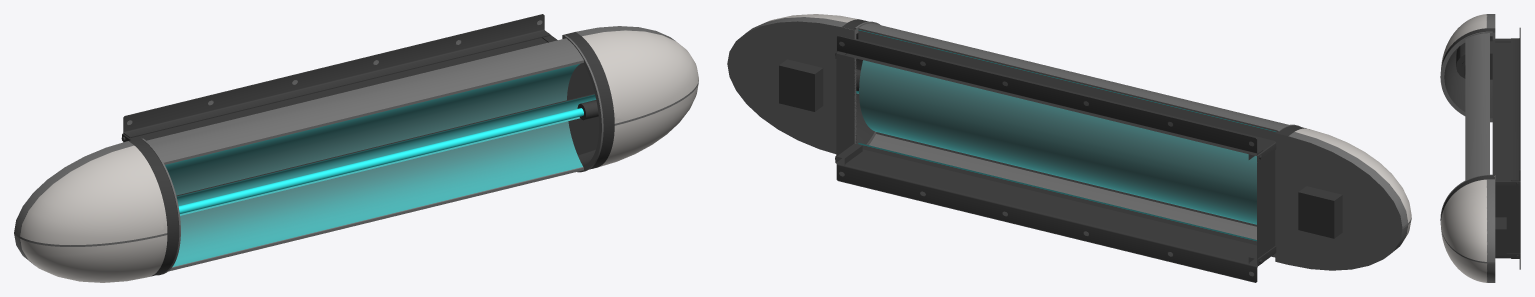
Rendered from Light_bridge_emitter.obj.
3 renders of one model, left to right at view 1: azimuth 30°, elevation 25°; view 2: azimuth 150°, elevation 25°; view 3: azimuth 270°, elevation 25°, orthographic. The views are drawn at different scales.
Visible parts, largest first — view 1: g0; view 2: g0; view 3: g0.
Boxes of the visible parts, left/top/right/bottom form: g0: left=14, top=14, right=698, bottom=282; g0: left=727, top=14, right=1411, bottom=282; g0: left=1440, top=14, right=1520, bottom=282.
Bounding box in the file's own units: 117 × 23.96 × 17.28.
